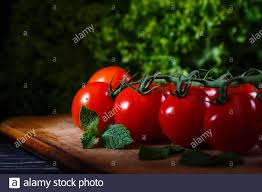tomato: (206, 85, 262, 153), (114, 84, 167, 143)
